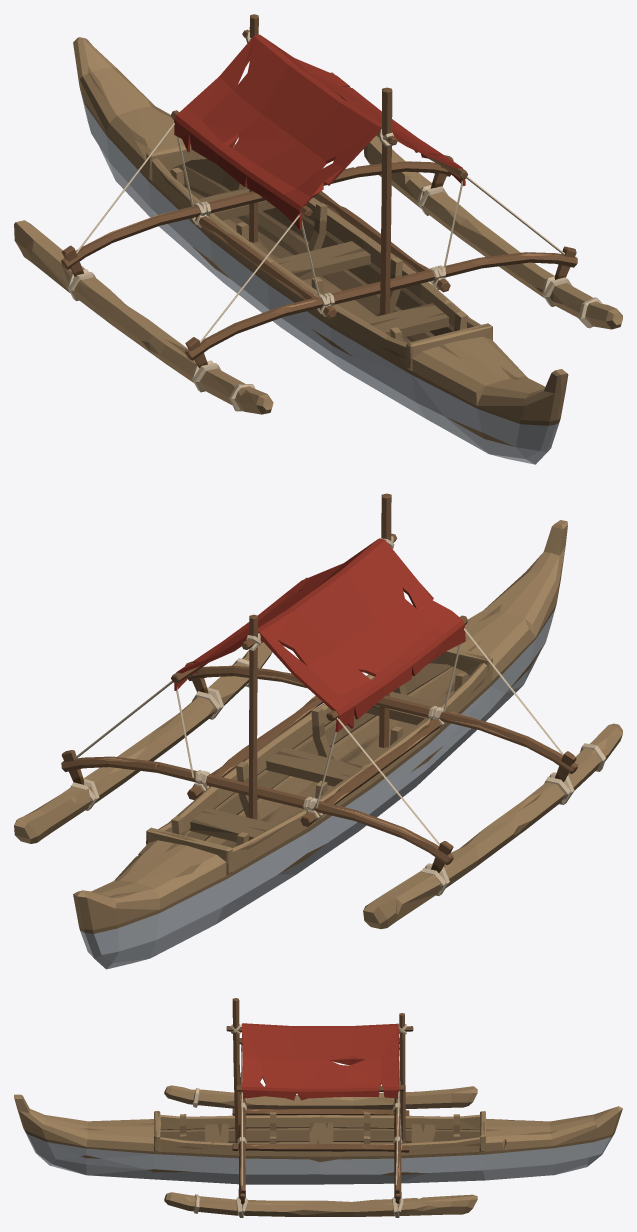
The model's file is trp_canoe.glb.
3 views of the same model, one above another, from view 1: azimuth 30°, elevation 25°; view 2: azimuth 150°, elevation 25°; view 3: azimuth 270°, elevation 25° (orthographic). The views are drawn at different scales.
Visible parts, largest first — view 1: SM_Veh_Outrigger_Canoe_01; view 2: SM_Veh_Outrigger_Canoe_01; view 3: SM_Veh_Outrigger_Canoe_01.
Boxes of the visible parts, bbox=[...] form: SM_Veh_Outrigger_Canoe_01: bbox=[14, 14, 622, 464]; SM_Veh_Outrigger_Canoe_01: bbox=[14, 493, 622, 969]; SM_Veh_Outrigger_Canoe_01: bbox=[14, 998, 622, 1217].
Size of the model in its own units: 3.17 by 2.22 by 6.84.
1 material, 1 textured.
